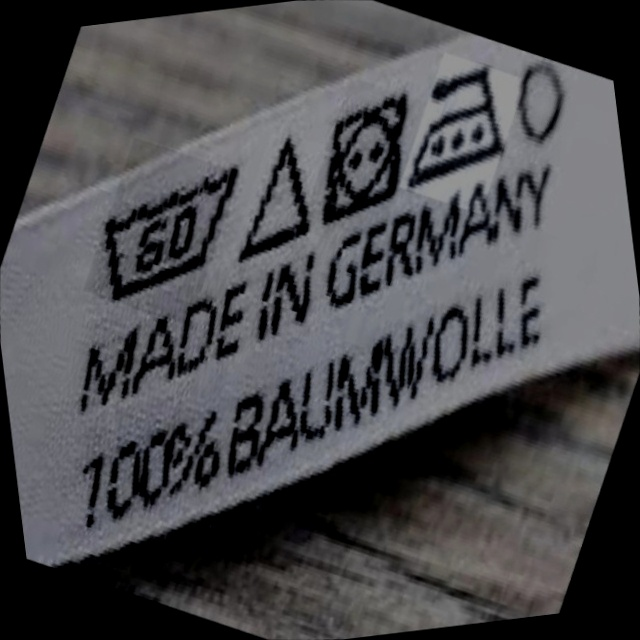60C: (74, 146, 257, 311)
bleach: (229, 125, 328, 269)
iron_high: (396, 50, 522, 198)
tumble_dry_medium: (307, 80, 423, 228)
